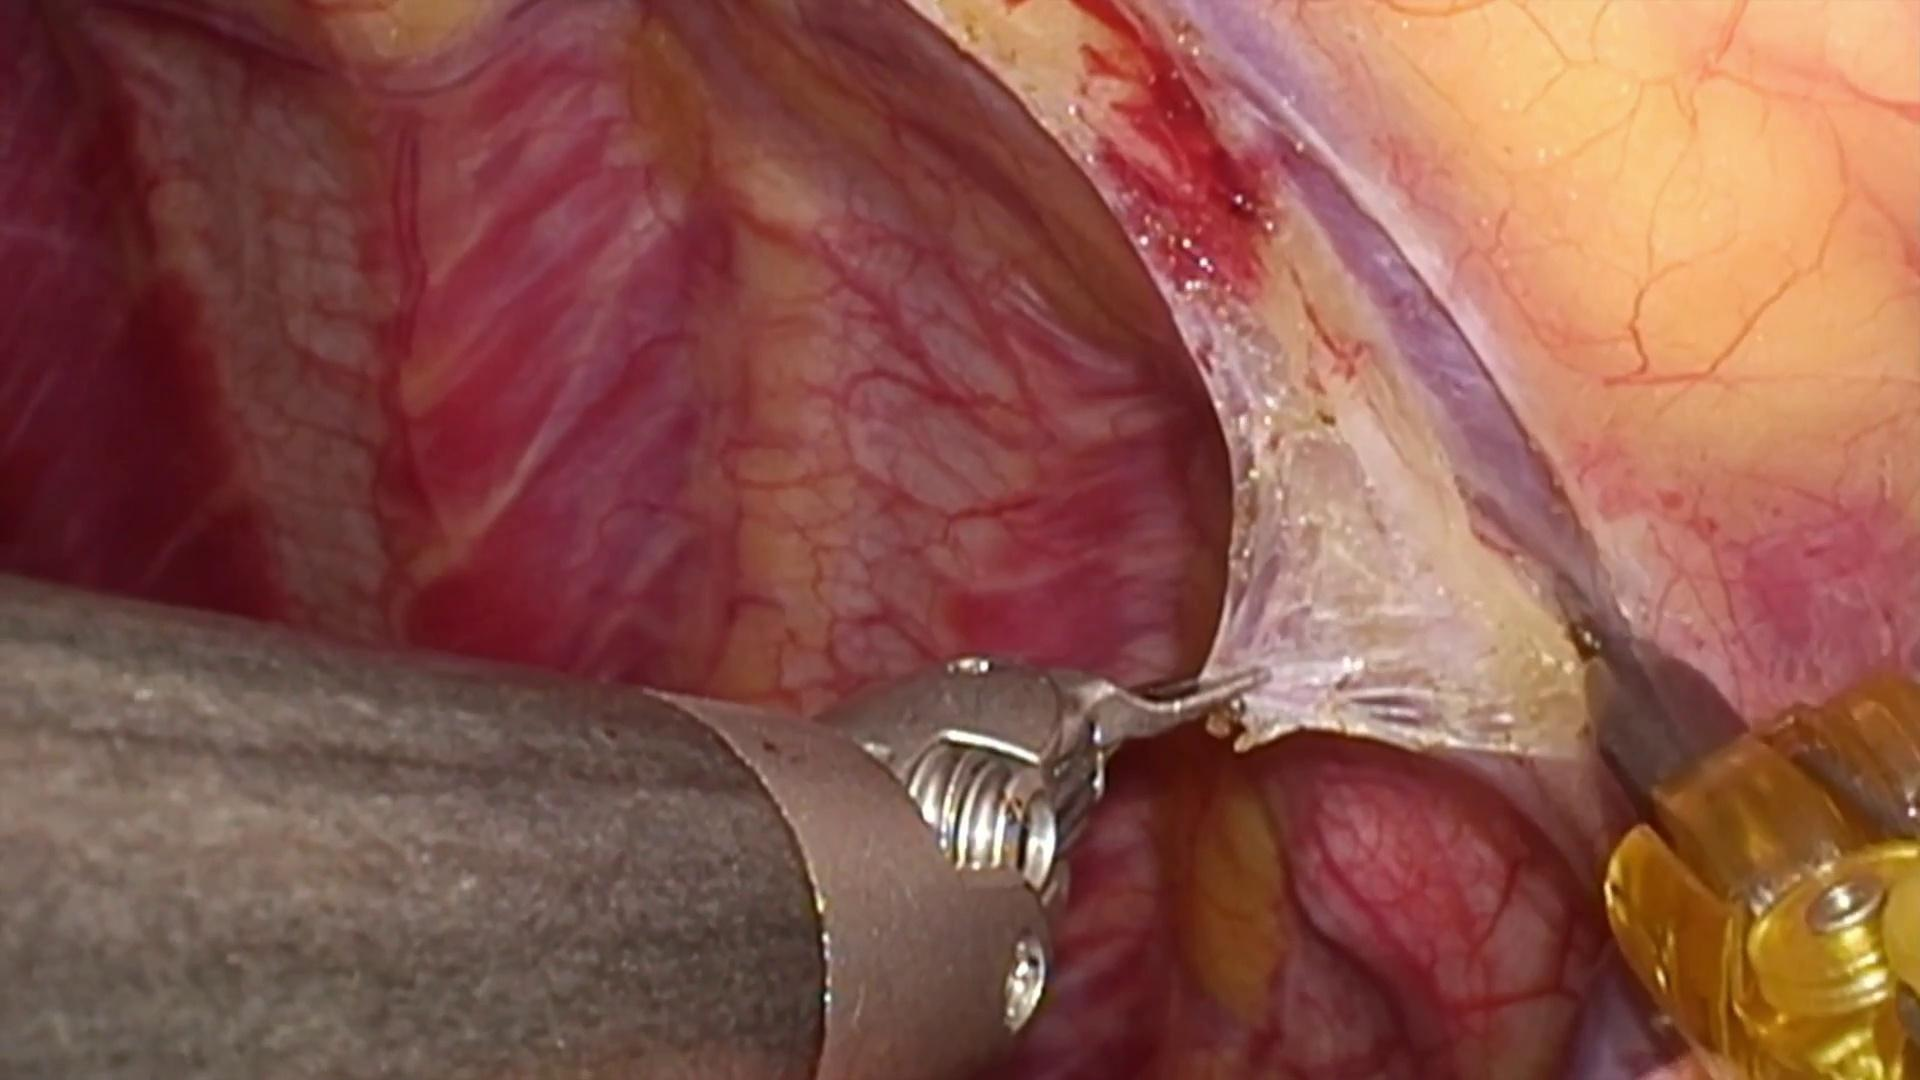Cautery_Spatula: (1540, 558, 1741, 791)
Debakey: (1056, 630, 1278, 800)
